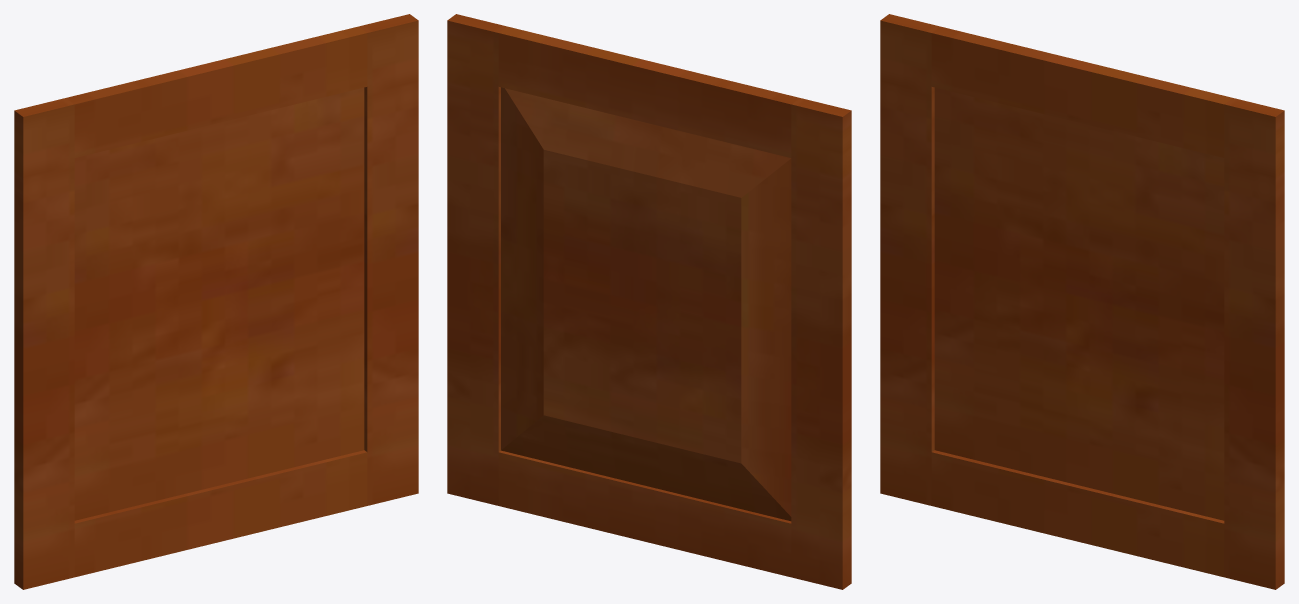
The model's file is cupboard_small_door.dae.
3 views of the same model, side by side, from view 1: azimuth 30°, elevation 25°; view 2: azimuth 150°, elevation 25°; view 3: azimuth 330°, elevation 25° (orthographic).
Parts seen in each view (by area): view 1: Door_Panel_Lwr_Cab, Door_Stile_Lwr_cab (×2), Dorr_Rails_Lwr_Cab (×2); view 2: Door_Panel_Lwr_Cab, Door_Stile_Lwr_cab (×2), Dorr_Rails_Lwr_Cab (×2); view 3: Door_Panel_Lwr_Cab, Door_Stile_Lwr_cab (×2), Dorr_Rails_Lwr_Cab (×2).
Boxes of the visible parts, x1=… form: Door_Panel_Lwr_Cab: x1=74, y1=87, x2=364, y2=520; Door_Stile_Lwr_cab (×2): x1=14, y1=14, x2=418, y2=589; Dorr_Rails_Lwr_Cab (×2): x1=66, y1=26, x2=367, y2=577; Door_Panel_Lwr_Cab: x1=501, y1=87, x2=791, y2=521; Door_Stile_Lwr_cab (×2): x1=447, y1=14, x2=851, y2=589; Dorr_Rails_Lwr_Cab (×2): x1=498, y1=26, x2=799, y2=577; Door_Panel_Lwr_Cab: x1=934, y1=87, x2=1224, y2=520; Door_Stile_Lwr_cab (×2): x1=880, y1=14, x2=1284, y2=589; Dorr_Rails_Lwr_Cab (×2): x1=931, y1=26, x2=1232, y2=577.
Size of the model in its own units: 19.25 by 1.06 by 22.
Materials: 1 (1 with a texture image).
